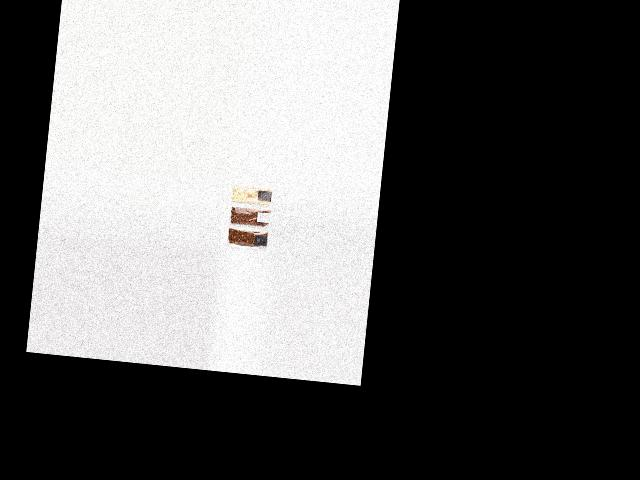chocolate: (222, 226, 267, 254)
